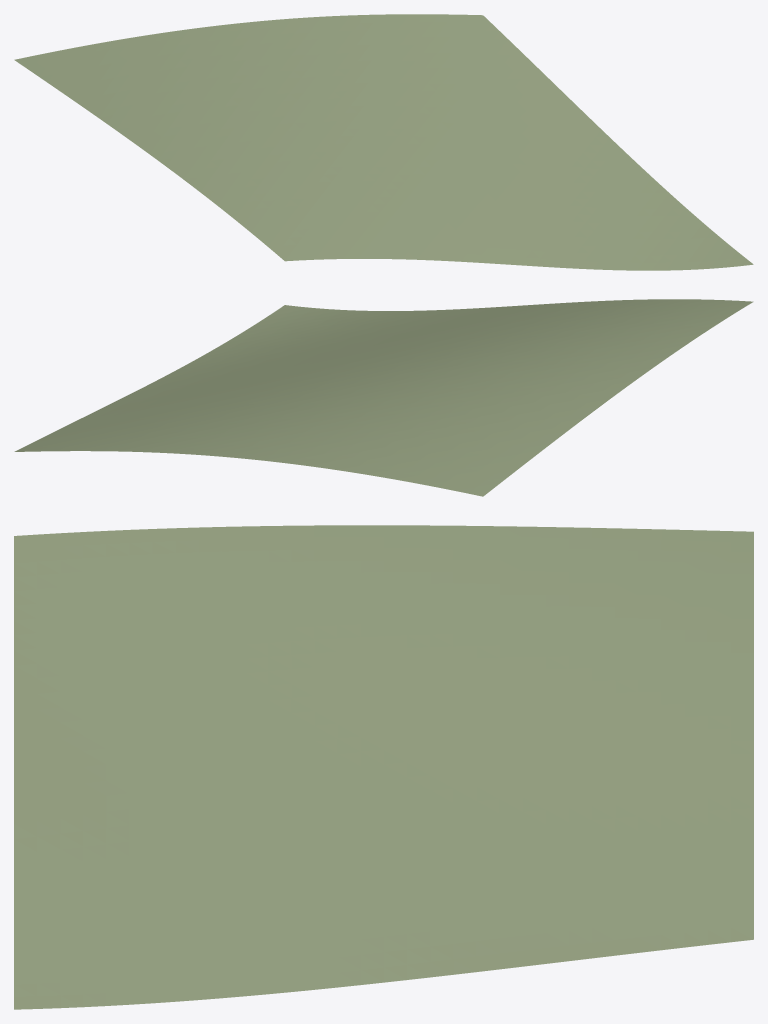
The model's file is expanse-7-23.glb.
3 renders of one model, top to bottom at view 1: azimuth 30°, elevation 25°; view 2: azimuth 150°, elevation 25°; view 3: azimuth 270°, elevation 25°, orthographic. The views are drawn at different scales.
Visible parts, largest first — view 1: expanse-7-23; view 2: expanse-7-23; view 3: expanse-7-23.
Boxes of the visible parts, x1,y1,x2,y2 form: expanse-7-23: (14, 14, 753, 270); expanse-7-23: (14, 299, 753, 496); expanse-7-23: (14, 525, 753, 1009).
Bounding box in the file's own units: 256 × 65.53 × 256.
